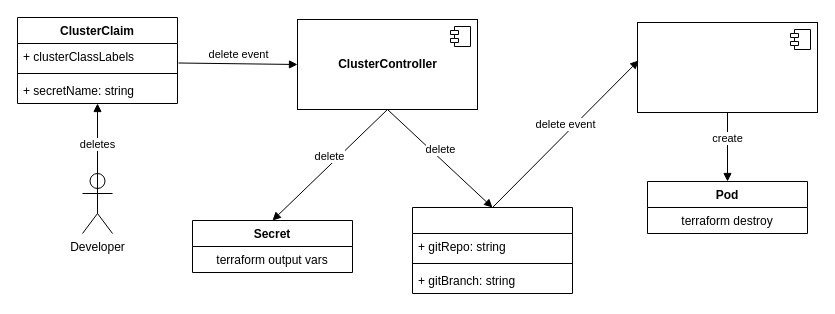
Image size: 835x314. Some labels were removed from this diagram. Here are the shapes that lost their labels. From the top down, the box of each, then its label:
(636, 22, 818, 112): TerraformController
(412, 206, 572, 294): TerraformState
